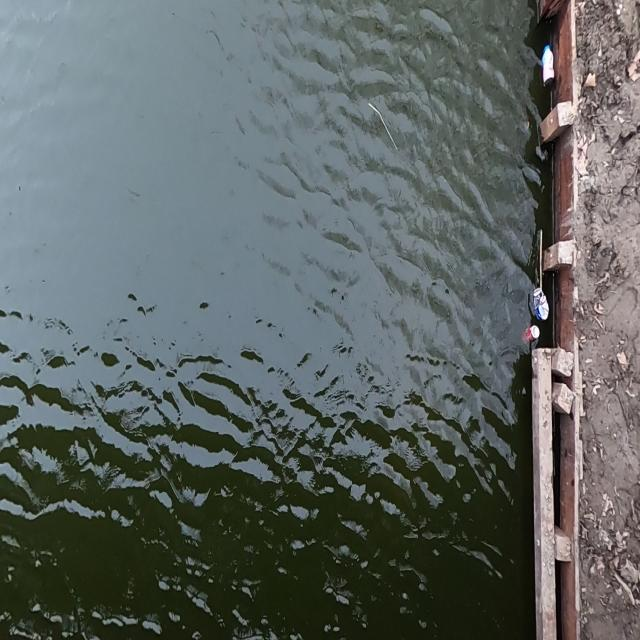Bouteille plastique: (538, 40, 557, 89)
Non plastique: (528, 279, 552, 325), (517, 322, 544, 352)
